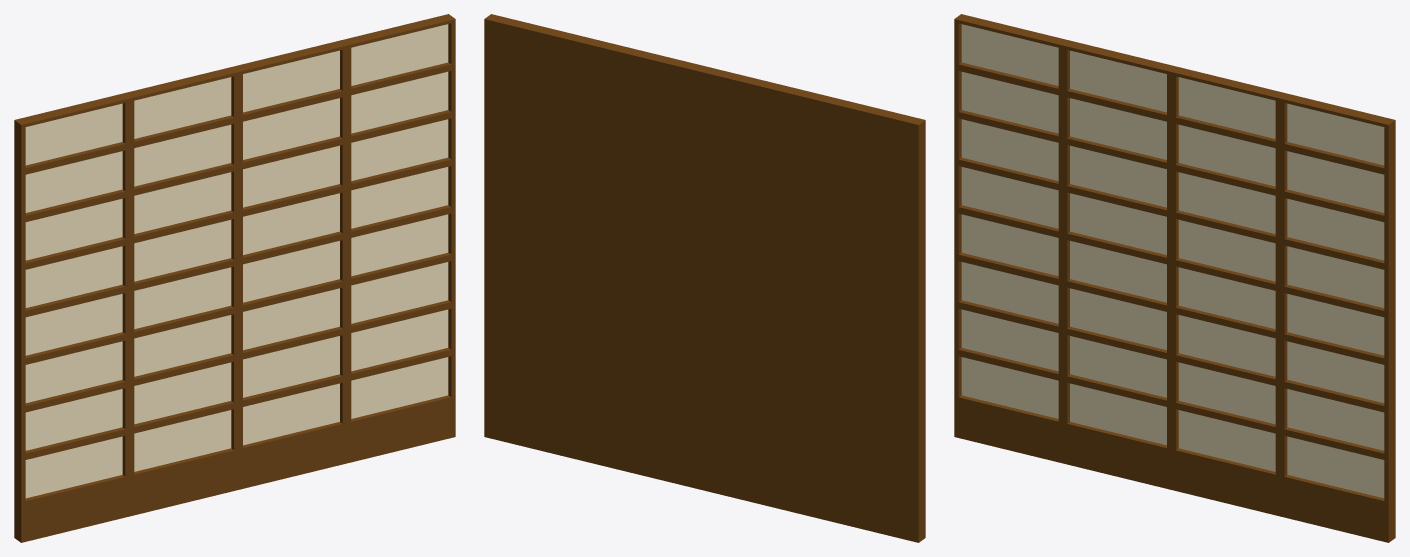
The model's file is Asian_Prop_Building_Modular_Wall_Rural_Door_Screen_01.FBX.
The picture shows the model from 3 angles, left to right: view 1: azimuth 30°, elevation 25°; view 2: azimuth 150°, elevation 25°; view 3: azimuth 330°, elevation 25°; orthographic projection.
Parts seen in each view (by area): view 1: Asian_Prop_Building_Modular_Wall_Rural_Door_Screen_01; view 2: Asian_Prop_Building_Modular_Wall_Rural_Door_Screen_01; view 3: Asian_Prop_Building_Modular_Wall_Rural_Door_Screen_01.
Boxes of the visible parts, left/top/right/bottom form: Asian_Prop_Building_Modular_Wall_Rural_Door_Screen_01: left=14, top=14, right=455, bottom=542; Asian_Prop_Building_Modular_Wall_Rural_Door_Screen_01: left=484, top=14, right=925, bottom=542; Asian_Prop_Building_Modular_Wall_Rural_Door_Screen_01: left=954, top=14, right=1395, bottom=542.
Bounding box in the file's own units: 3480 × 3199 × 96.
